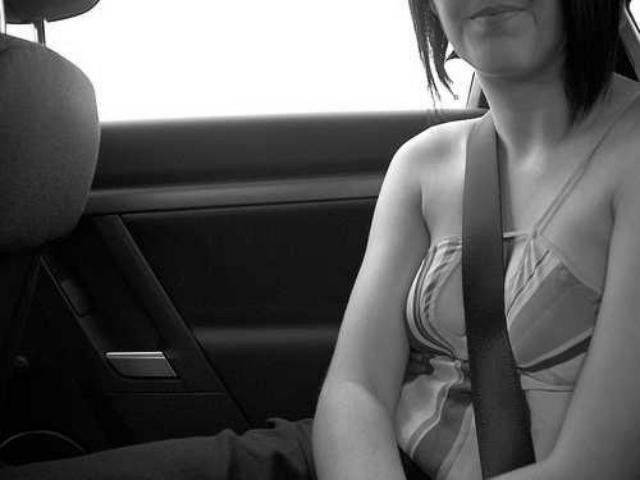Seatbelt: (454, 104, 546, 480)
